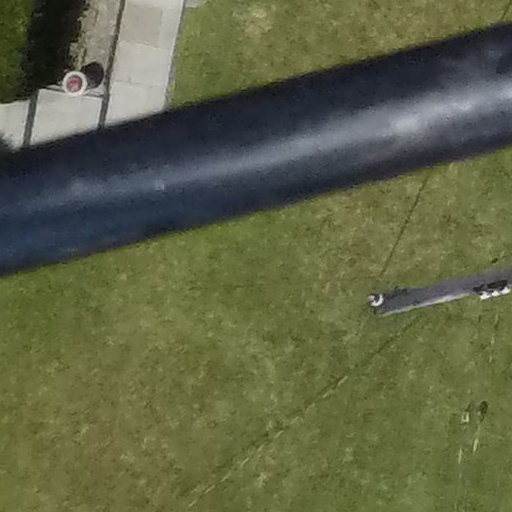container: (57, 68, 92, 95)
